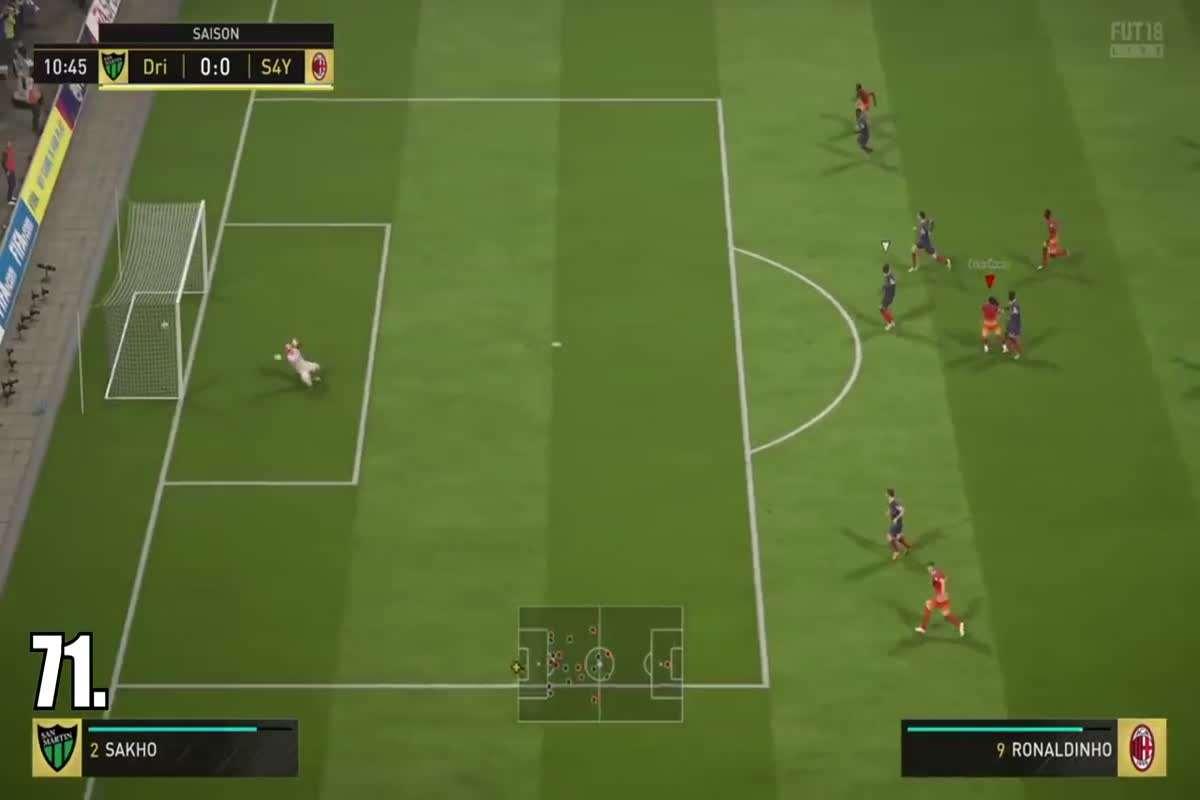ball: (154, 313, 174, 335)
